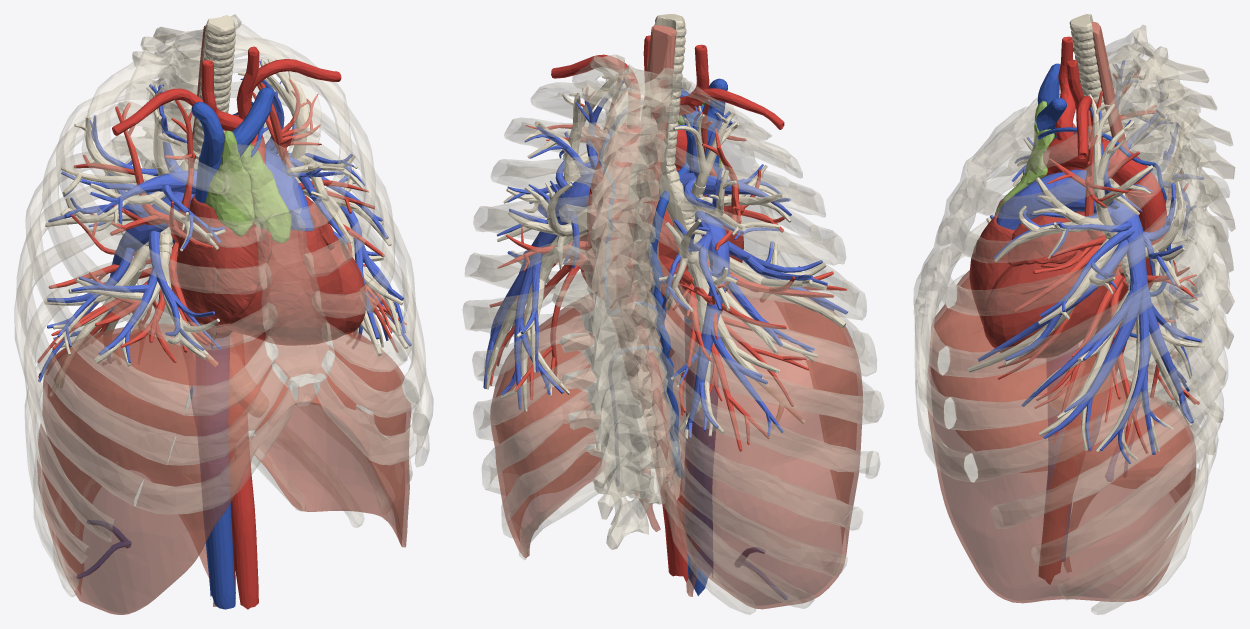
File: thorax.glb
3 renders of one model, left to right at view 1: azimuth 30°, elevation 25°; view 2: azimuth 150°, elevation 25°; view 3: azimuth 270°, elevation 25°, orthographic. The views are drawn at different scales.
Parts seen in each view (by area): view 1: ribs, diaphragm, heart, airway, pulmart, venacava, pulmvein, aorta, thymus, spine, esophagus; view 2: ribs, diaphragm, spine, airway, pulmart, pulmvein, aorta, venacava, esophagus, heart; view 3: ribs, diaphragm, spine, pulmart, airway, heart, aorta, pulmvein, venacava, esophagus, thymus.
Part boxes in pixels (bbox=[...]): ribs: bbox=[14, 24, 433, 596]; diaphragm: bbox=[37, 323, 411, 614]; heart: bbox=[176, 195, 366, 345]; airway: bbox=[44, 15, 408, 396]; pulmart: bbox=[38, 60, 411, 578]; venacava: bbox=[172, 87, 274, 609]; pulmvein: bbox=[37, 79, 406, 380]; aorta: bbox=[112, 46, 341, 609]; thymus: bbox=[205, 130, 291, 243]; spine: bbox=[105, 14, 241, 324]; esophagus: bbox=[192, 25, 268, 417]; ribs: bbox=[462, 64, 884, 614]; diaphragm: bbox=[490, 285, 862, 609]; spine: bbox=[552, 54, 691, 549]; airway: bbox=[486, 14, 846, 439]; pulmart: bbox=[483, 80, 847, 599]; pulmvein: bbox=[489, 70, 847, 451]; aorta: bbox=[551, 35, 784, 582]; venacava: bbox=[599, 78, 727, 595]; esophagus: bbox=[634, 25, 676, 373]; heart: bbox=[578, 177, 743, 320]; ribs: bbox=[913, 31, 1229, 614]; diaphragm: bbox=[927, 270, 1196, 603]; spine: bbox=[1108, 25, 1235, 486]; pulmart: bbox=[978, 60, 1203, 481]; airway: bbox=[968, 14, 1204, 460]; heart: bbox=[969, 199, 1121, 358]; aorta: bbox=[1038, 36, 1167, 584]; pulmvein: bbox=[997, 73, 1199, 453]; venacava: bbox=[1036, 63, 1170, 561]; esophagus: bbox=[1049, 22, 1128, 411]; thymus: bbox=[995, 101, 1054, 213].
Size of the model in its own units: 0.2732 by 0.4102 by 0.2138.
